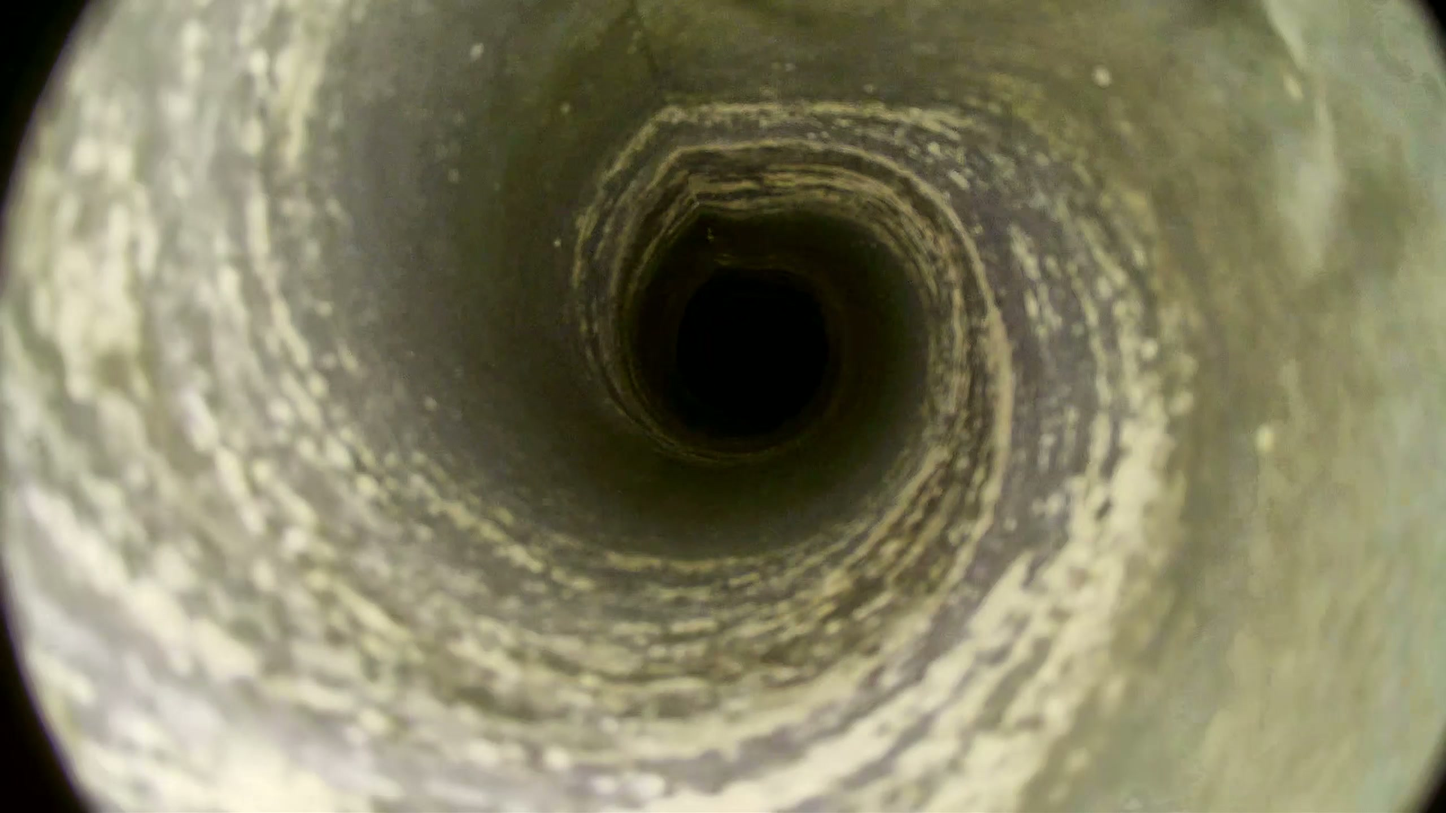hole: (678, 274, 827, 425)
